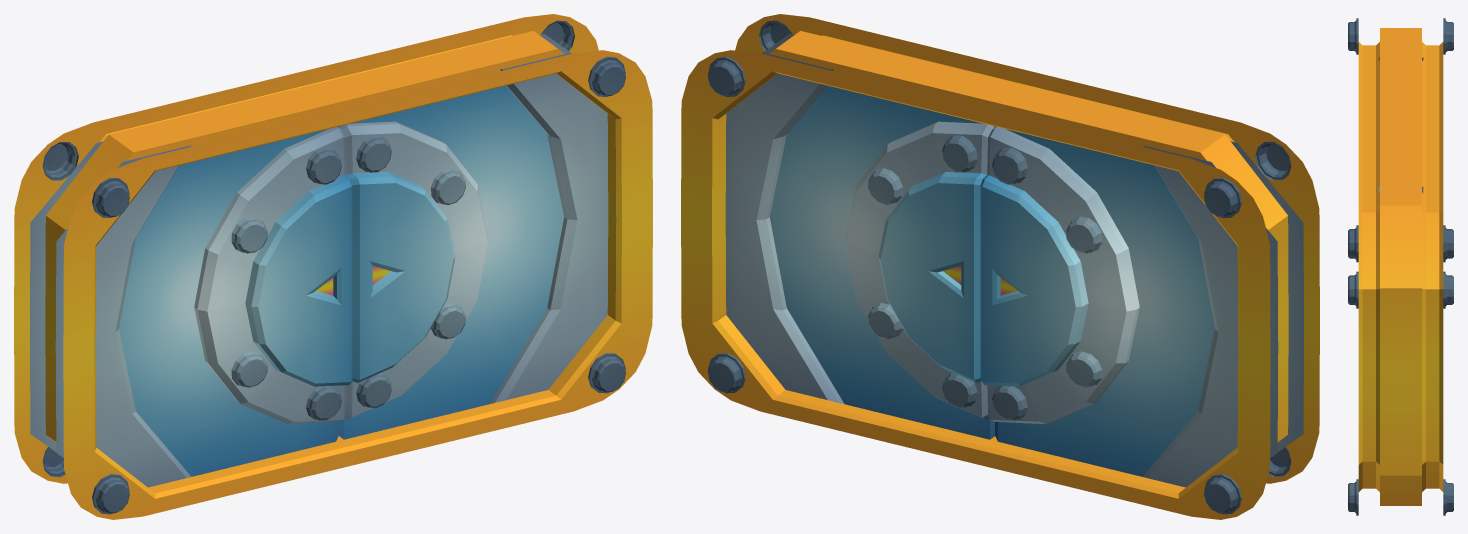
The model's file is Level Door .fbx.
3 renders of one model, left to right at view 1: azimuth 30°, elevation 25°; view 2: azimuth 150°, elevation 25°; view 3: azimuth 270°, elevation 25°, orthographic. The views are drawn at different scales.
Parts seen in each view (by area): view 1: Main DoorFrame, Main Door L, Main Door R; view 2: Main DoorFrame, Main Door L, Main Door R; view 3: Main DoorFrame.
Part boxes in pixels (x1,y1,x2,y2): Main DoorFrame: [14, 14, 652, 519]; Main Door L: [30, 126, 353, 487]; Main Door R: [339, 33, 608, 439]; Main DoorFrame: [681, 14, 1319, 519]; Main Door L: [980, 126, 1303, 487]; Main Door R: [725, 33, 994, 439]; Main DoorFrame: [1348, 18, 1453, 515].
Size of the model in its own units: 2130 by 1236 by 387.
